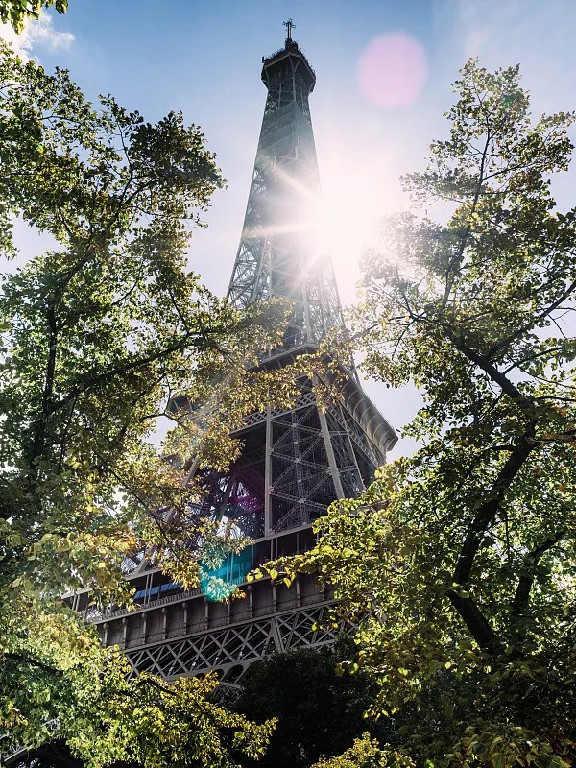Eiffel: (1, 19, 436, 768)
